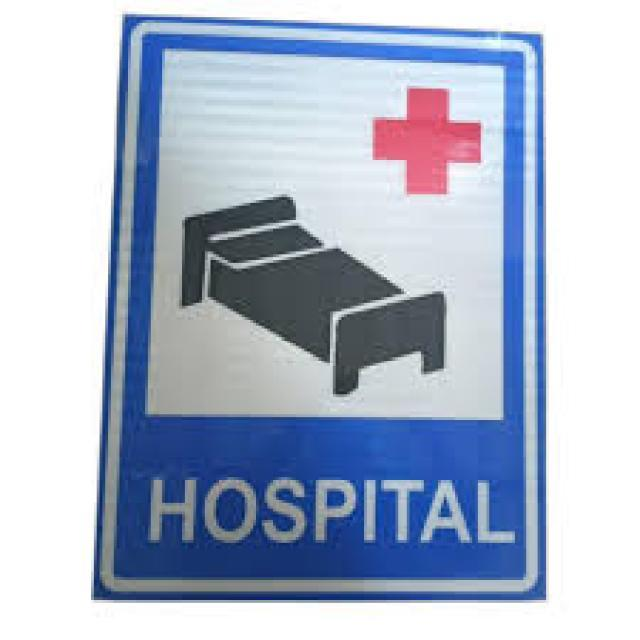hospital ahead: (152, 46, 519, 427)
